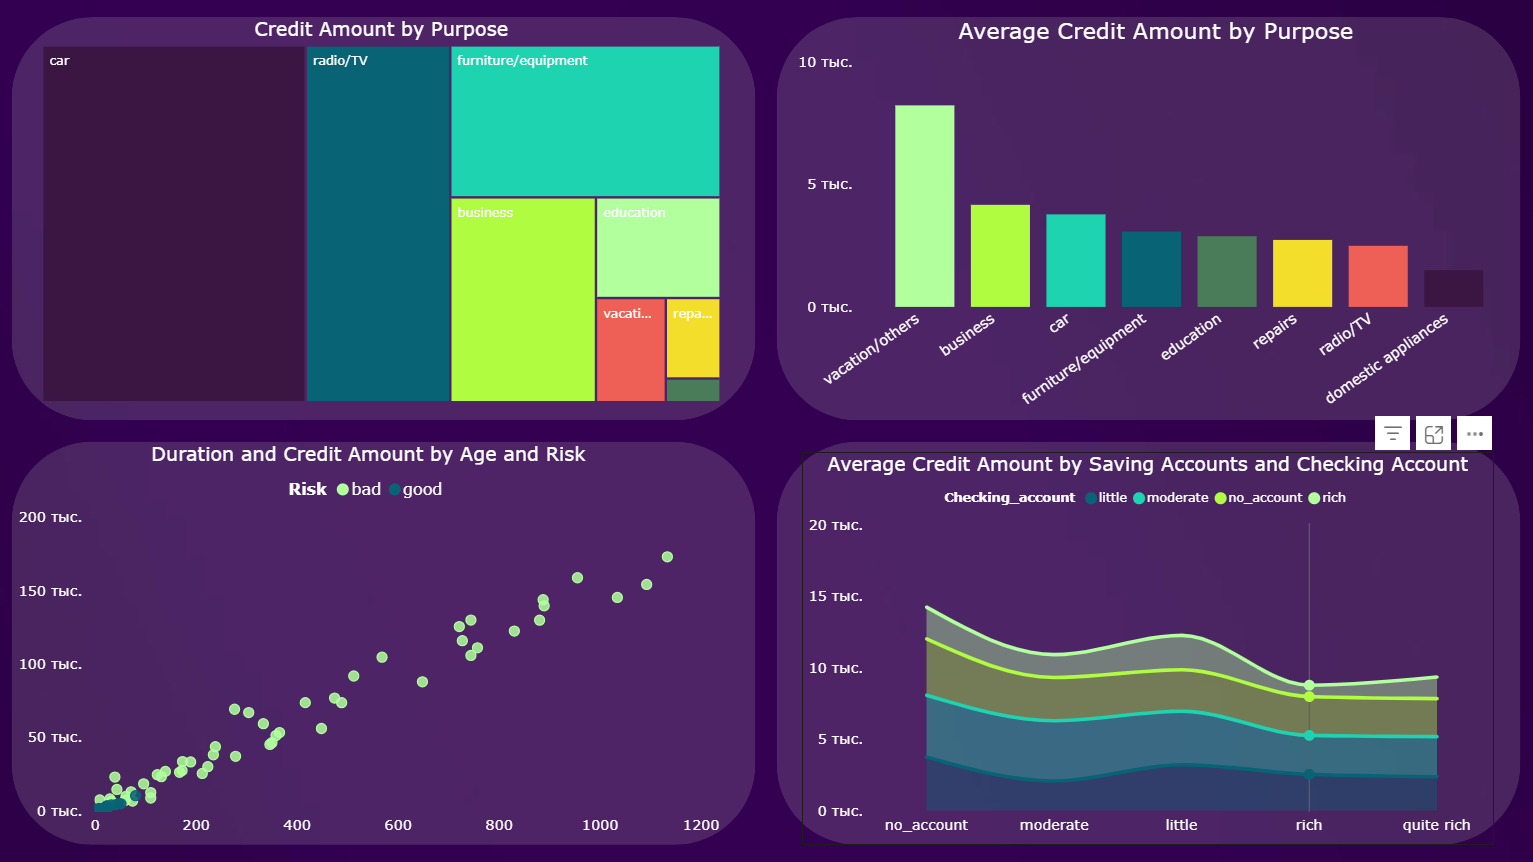

This screenshot's page, from the dashboard's own definition file:
{"tool":"powerbi","page":{"name":"Dashboard 2","canvas":[1280,720],"ordinal":3},"visuals":[{"type":"shape","box":[648.8,15,620,336.2],"z":0},{"type":"shape","box":[648.8,368.8,620,336.2],"z":1000},{"type":"shape","box":[11.2,15,620,336.2],"z":2000},{"type":"shape","box":[11.2,368.8,620,336.2],"z":3000},{"type":"columnChart","title":"Average Credit Amount by Purpose","fields":{"Category":["final_data.Purpose"],"Y":["final_data.Average Credit Amount"]},"box":[661.2,15,607.5,336.2],"z":4000},{"type":"scatterChart","title":"Duration and Credit Amount by Age and Risk","fields":{"Category":["final_data.Age"],"X":["Sum(final_data.Duration)"],"Y":["Sum(final_data.Credit_amount)"],"Series":["final_data.Risk"]},"box":[11.2,368.8,595,336.2],"z":5000},{"type":"treemap","title":" Credit Amount by Purpose","fields":{"Group":["final_data.Purpose"],"Values":["Sum(final_data.Credit_amount)"]},"box":[32.5,15,573.8,325],"z":6000},{"type":"stackedAreaChart","title":"Average Credit Amount by Saving Accounts and Checking Account","fields":{"Category":["final_data.Saving_accounts"],"Y":["Avg(final_data.Credit_amount)"],"Series":["final_data.Checking_account"]},"box":[670,377.5,576.2,327.5],"z":7000}]}

Visuals, with their boxes in screenshot pixels (x1, y1, x2, y2), scaled from the page's 1280x720 canvas onto the 1533x862 screenshot:
shape: Rect(777, 18, 1520, 420)
shape: Rect(777, 442, 1520, 844)
shape: Rect(13, 18, 756, 420)
shape: Rect(13, 442, 756, 844)
"Average Credit Amount by Purpose" columnChart: Rect(792, 18, 1519, 420)
"Duration and Credit Amount by Age and Risk" scatterChart: Rect(13, 442, 726, 844)
" Credit Amount by Purpose" treemap: Rect(39, 18, 726, 407)
"Average Credit Amount by Saving Accounts and Checking Account" stackedAreaChart: Rect(802, 452, 1493, 844)
